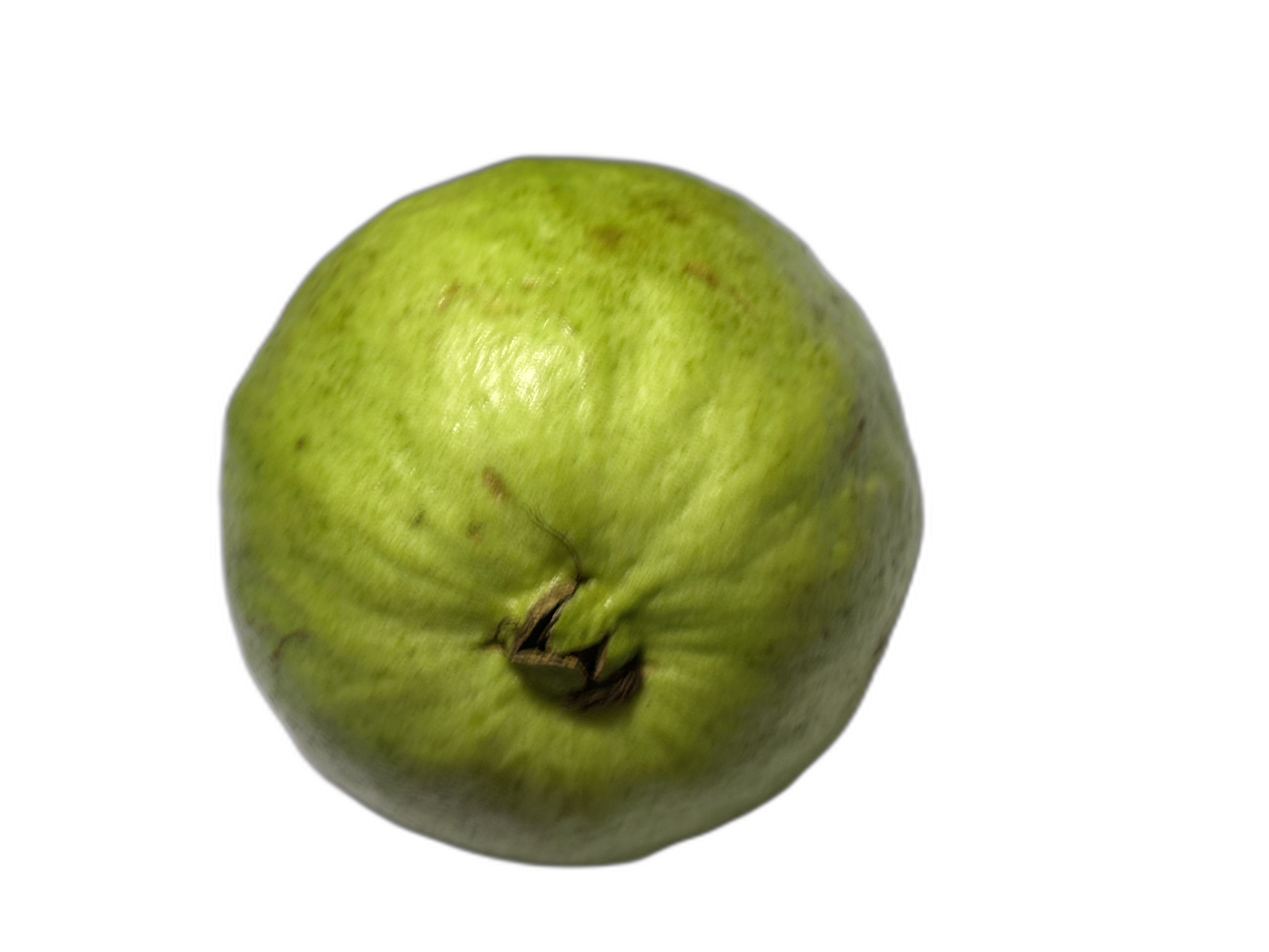guava: (260, 124, 1171, 875)
